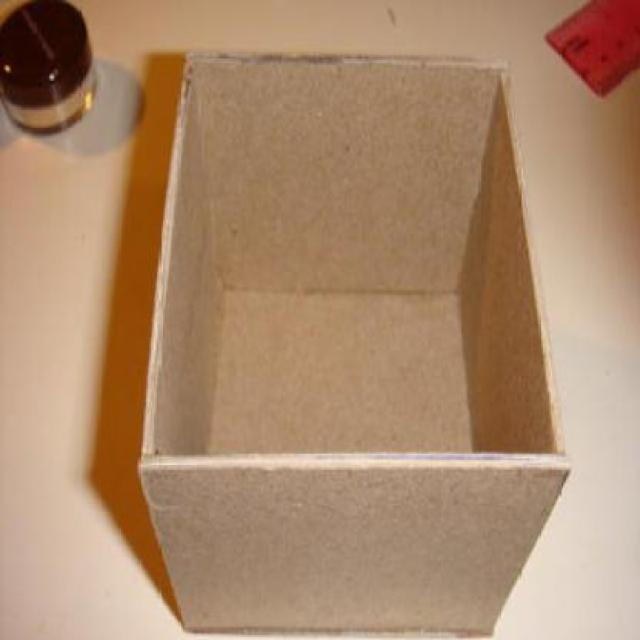box: (131, 31, 578, 640)
